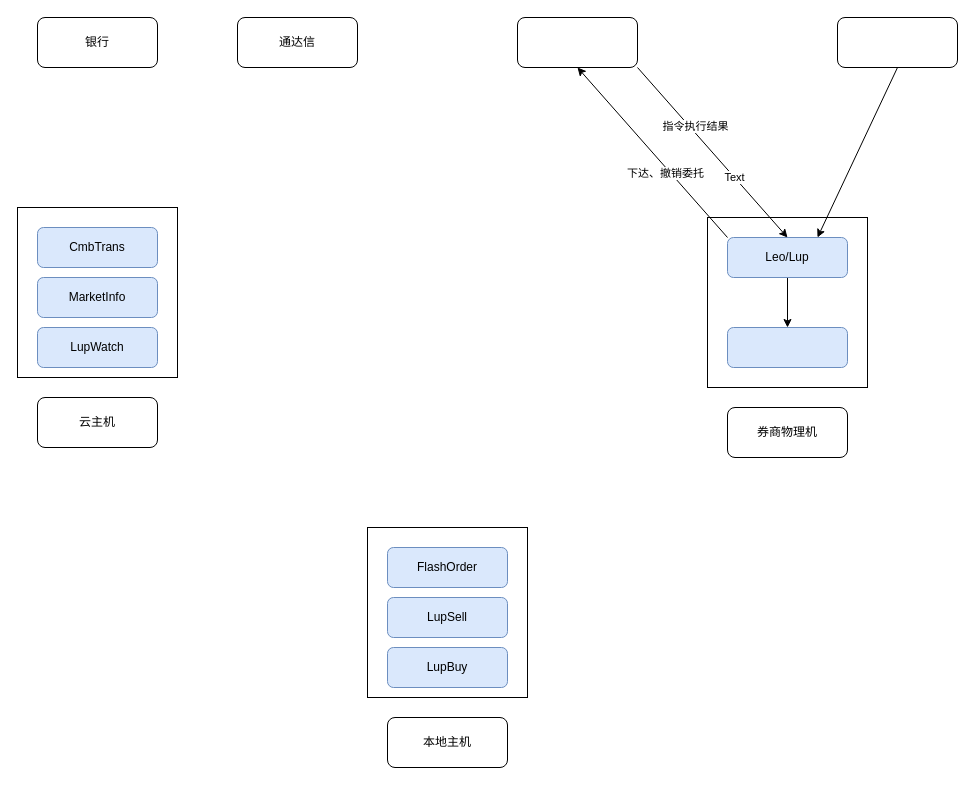
This 975x785 diagram has some shape labels left out. The centre of each missing label's shape, as x and y in pixels:
"Market" belongs at [787,347].
"快交柜台" belongs at [577,42].
"行情柜台" belongs at [897,42].
